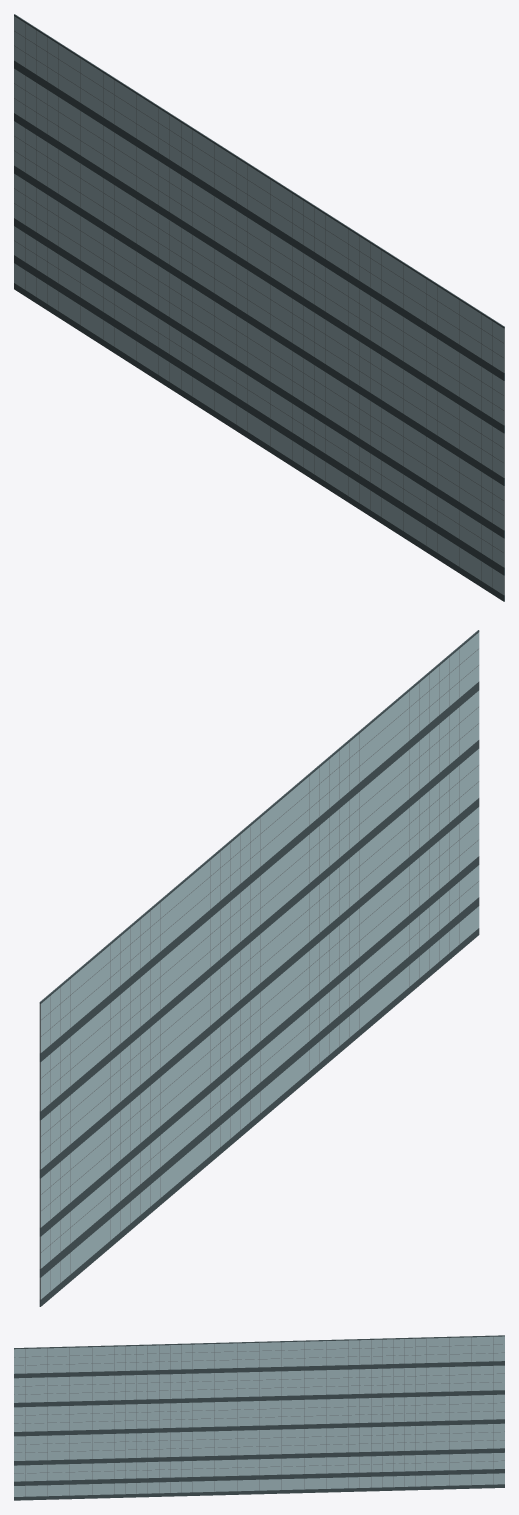
File: G7_MiddleExteriorSkin_E12_r001.glb
The picture shows the model from 3 angles, top to bottom: view 1: azimuth 30°, elevation 25°; view 2: azimuth 150°, elevation 25°; view 3: azimuth 270°, elevation 25°; orthographic projection. The views are drawn at different scales.
Visible parts, largest first — view 1: G7_MiddleSkin_E12_glazing, G7_MiddleSkin_E12_spandrel, G7_MiddleSkin_E12_joint; view 2: G7_MiddleSkin_E12_glazing, G7_MiddleSkin_E12_spandrel, G7_MiddleSkin_E12_joint; view 3: G7_MiddleSkin_E12_glazing, G7_MiddleSkin_E12_spandrel, G7_MiddleSkin_E12_joint.
Boxes of the visible parts, left/top/right/bottom form: G7_MiddleSkin_E12_glazing: left=14, top=16, right=503, bottom=594; G7_MiddleSkin_E12_spandrel: left=14, top=14, right=504, bottom=601; G7_MiddleSkin_E12_joint: left=14, top=23, right=504, bottom=595; G7_MiddleSkin_E12_glazing: left=41, top=632, right=479, bottom=1299; G7_MiddleSkin_E12_spandrel: left=39, top=630, right=479, bottom=1306; G7_MiddleSkin_E12_joint: left=39, top=649, right=479, bottom=1299; G7_MiddleSkin_E12_glazing: left=14, top=1336, right=504, bottom=1496; G7_MiddleSkin_E12_spandrel: left=14, top=1335, right=504, bottom=1500; G7_MiddleSkin_E12_joint: left=14, top=1337, right=504, bottom=1496.
Size of the model in its own units: 8.16 by 44.5 by 130.
3 materials, 2 textured.
